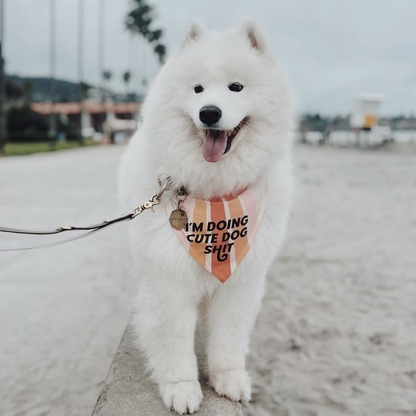samoyed: (107, 9, 298, 416)
